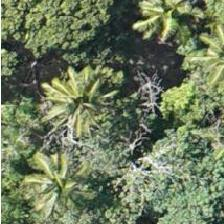coconut_tree: (37, 60, 127, 150), (13, 146, 103, 223), (115, 0, 205, 55)
